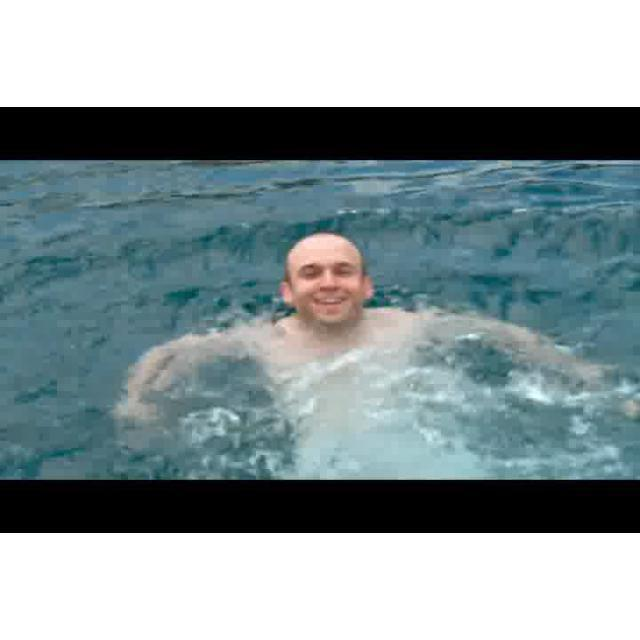human: (128, 235, 609, 410)
